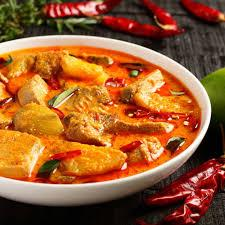Fish Curry: (0, 37, 186, 190)
